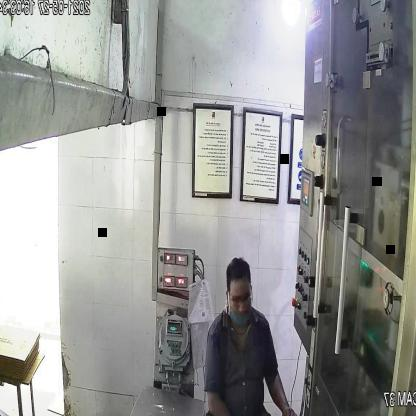goggles: (226, 290, 254, 313)
